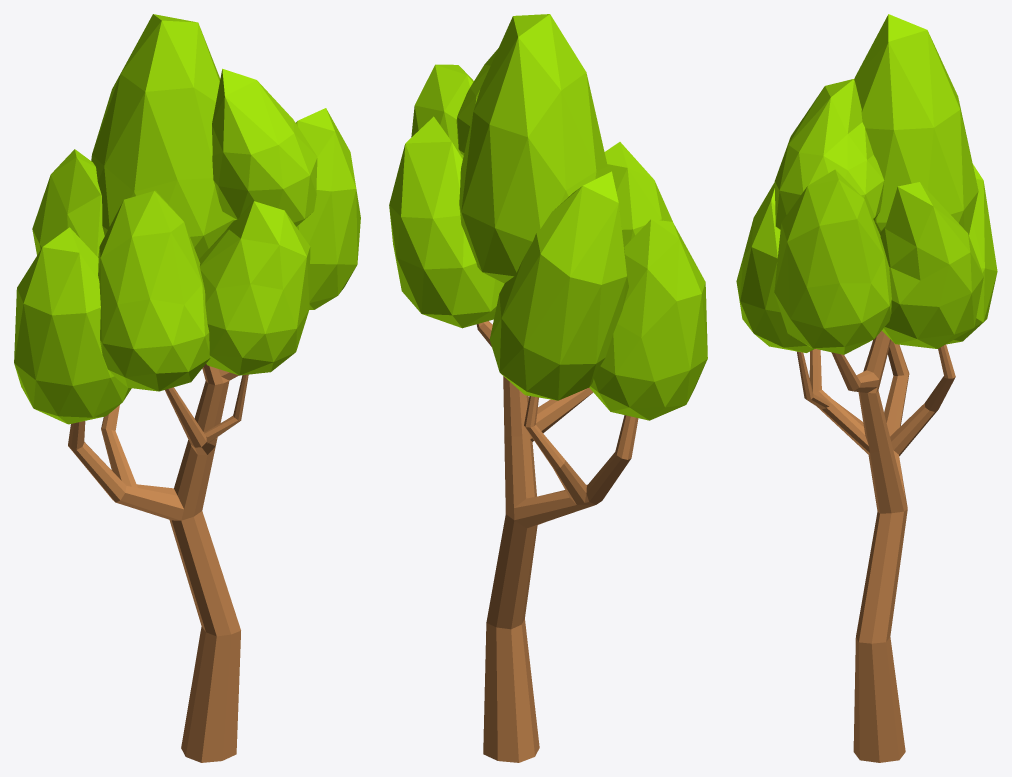
The model's file is tree_1.fbx.
3 renders of one model, left to right at view 1: azimuth 30°, elevation 25°; view 2: azimuth 150°, elevation 25°; view 3: azimuth 270°, elevation 25°, orthographic. The views are drawn at different scales.
Visible parts, largest first — view 1: tree_1; view 2: tree_1; view 3: tree_1.
Boxes of the visible parts, x1=… form: tree_1: x1=14, y1=14, x2=360, y2=762; tree_1: x1=389, y1=14, x2=707, y2=762; tree_1: x1=736, y1=14, x2=997, y2=762.
Size of the model in its own units: 439 by 1015 by 335.
